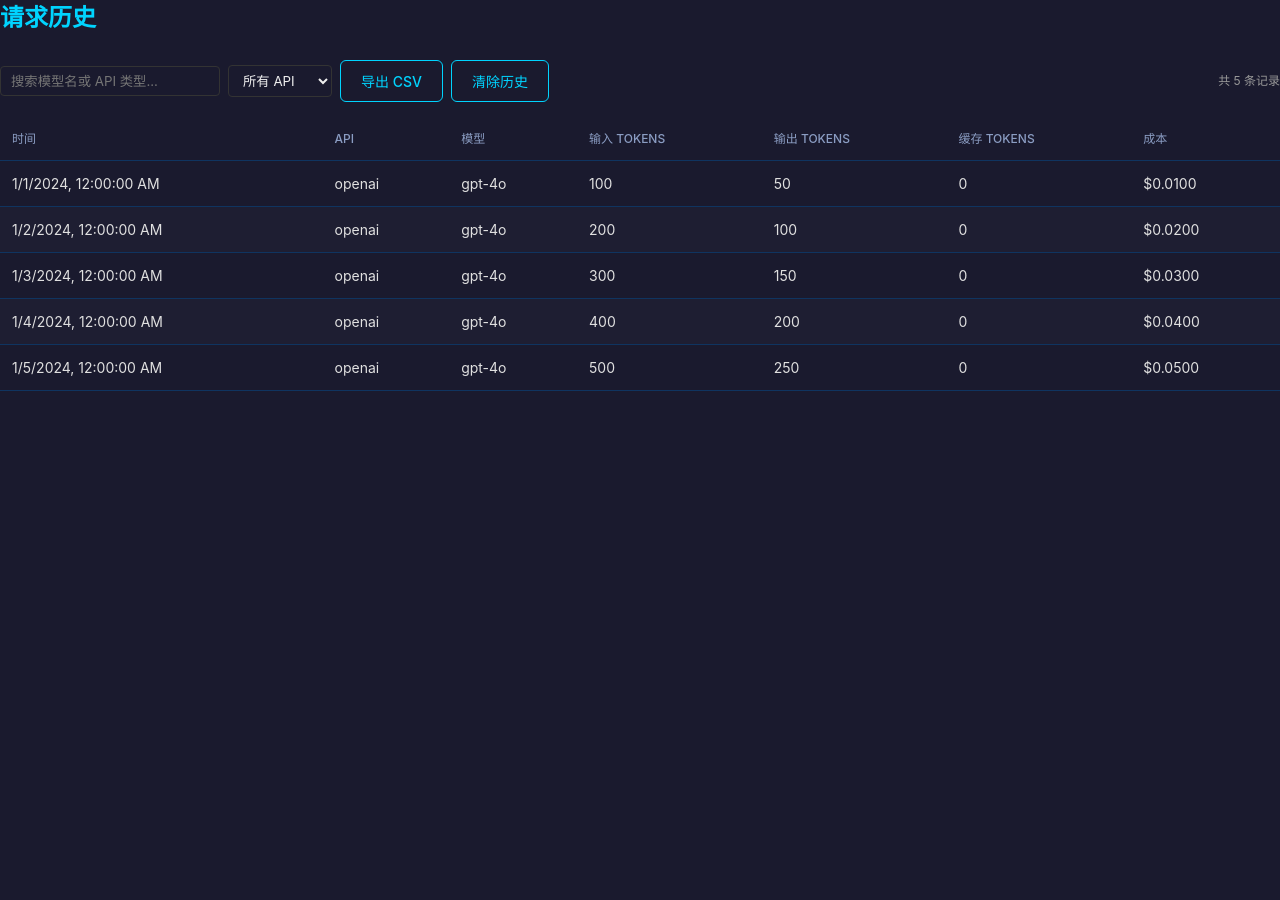
Test case: History › 点击清除历史弹出确认框
Click the button "清除历史" at point(500, 81), box [451, 60, 549, 102]
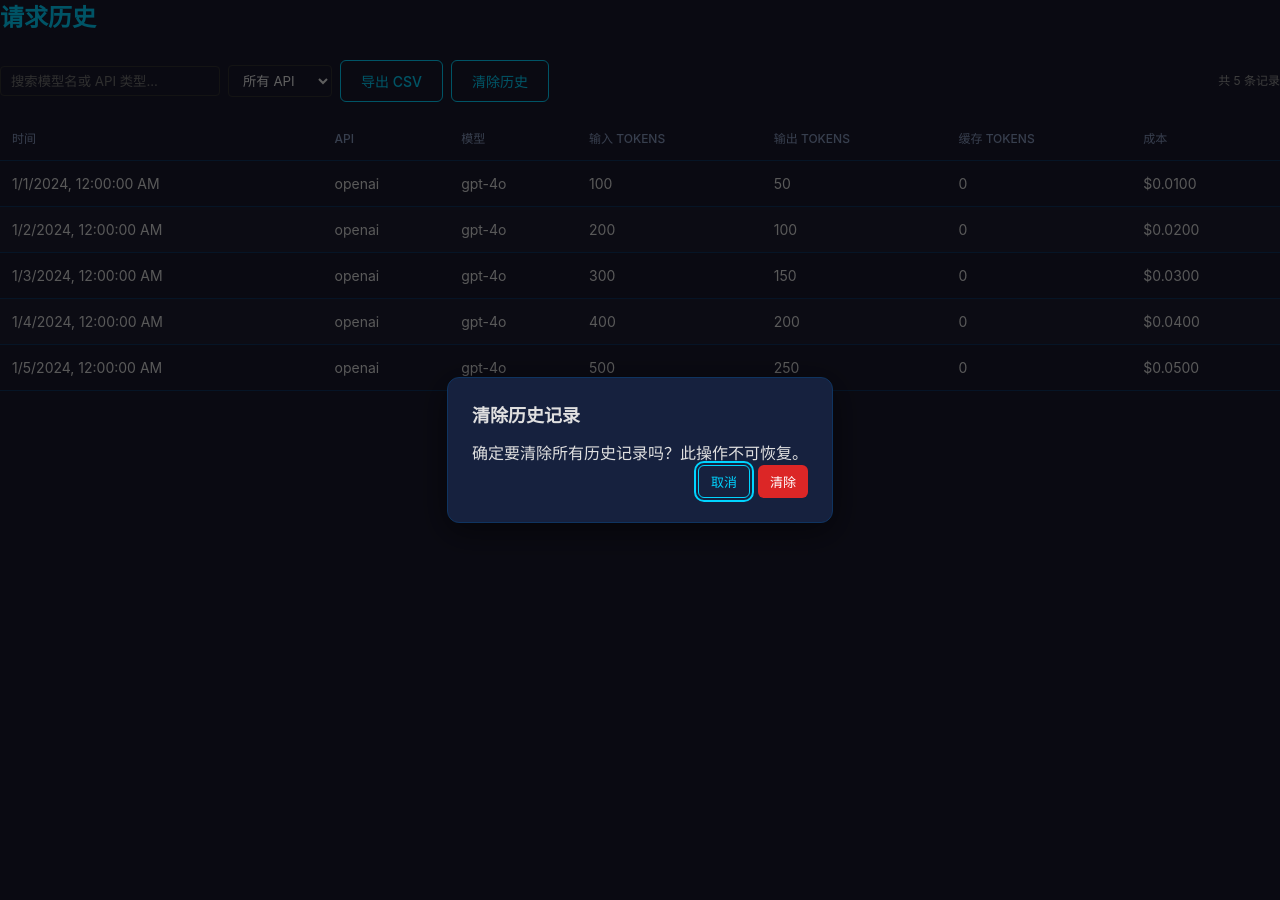
Now the heading "清除历史记录" is shown, box [472, 405, 580, 426]
